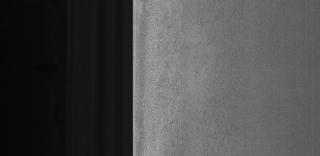silk spot: (154, 26, 194, 136)
